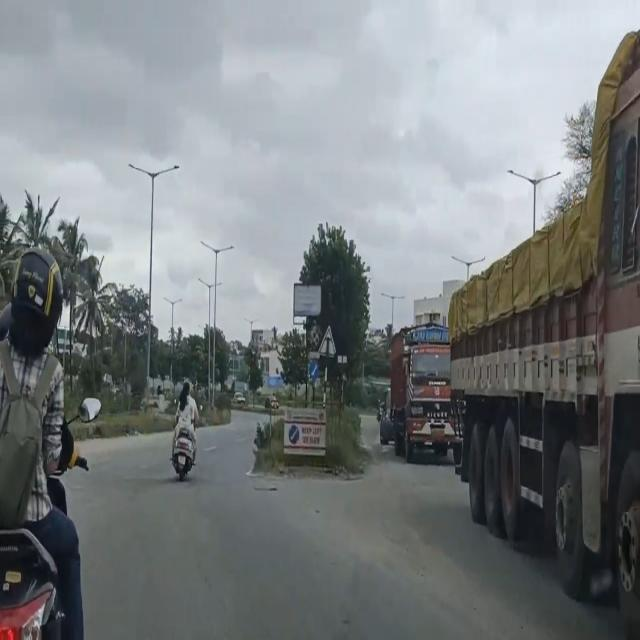bien_cam: (308, 359, 320, 382)
